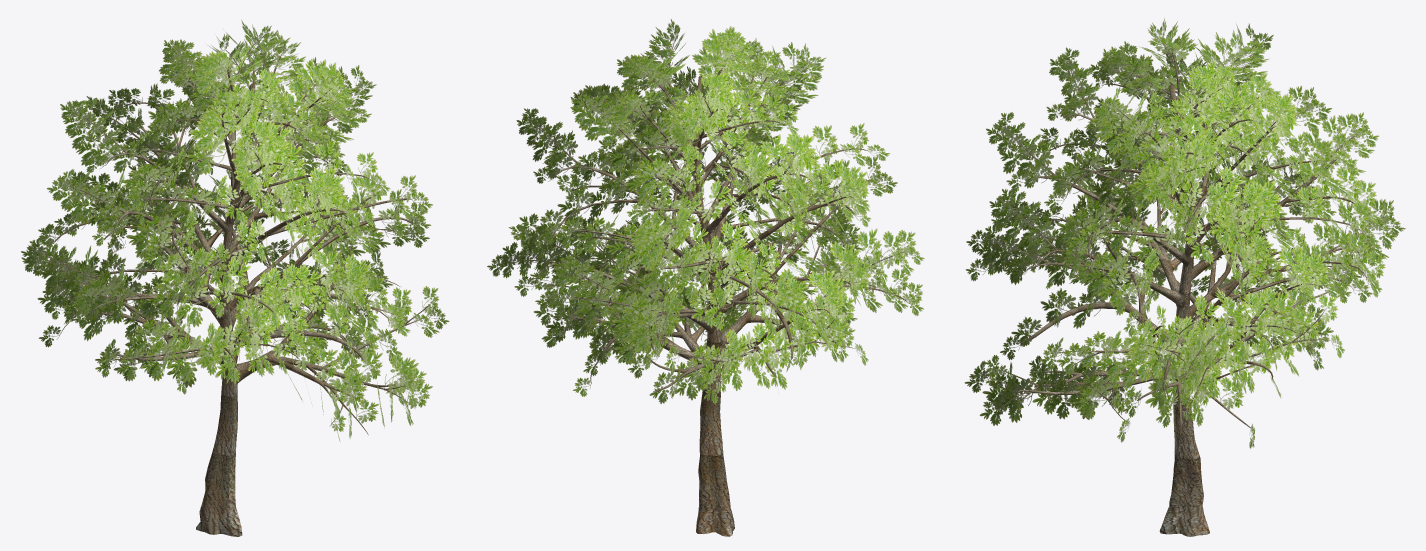
The model's file is roble.glb.
3 views of the same model, side by side, from view 1: azimuth 30°, elevation 25°; view 2: azimuth 150°, elevation 25°; view 3: azimuth 270°, elevation 25° (orthographic). The views are drawn at different scales.
Parts seen in each view (by area): view 1: tree; view 2: tree; view 3: tree.
Boxes of the visible parts, bbox=[...] form: tree: bbox=[21, 20, 449, 536]; tree: bbox=[487, 19, 924, 536]; tree: bbox=[964, 18, 1405, 536].
Size of the model in its own units: 3.9 by 4.72 by 3.78.
2 materials, 2 textured.
